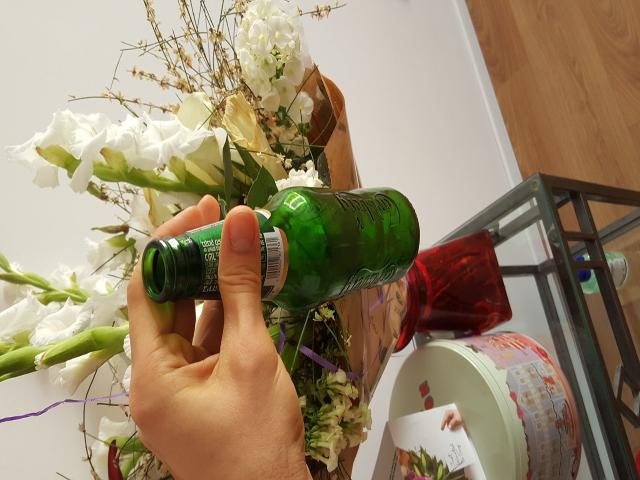beer: (143, 185, 421, 309)
